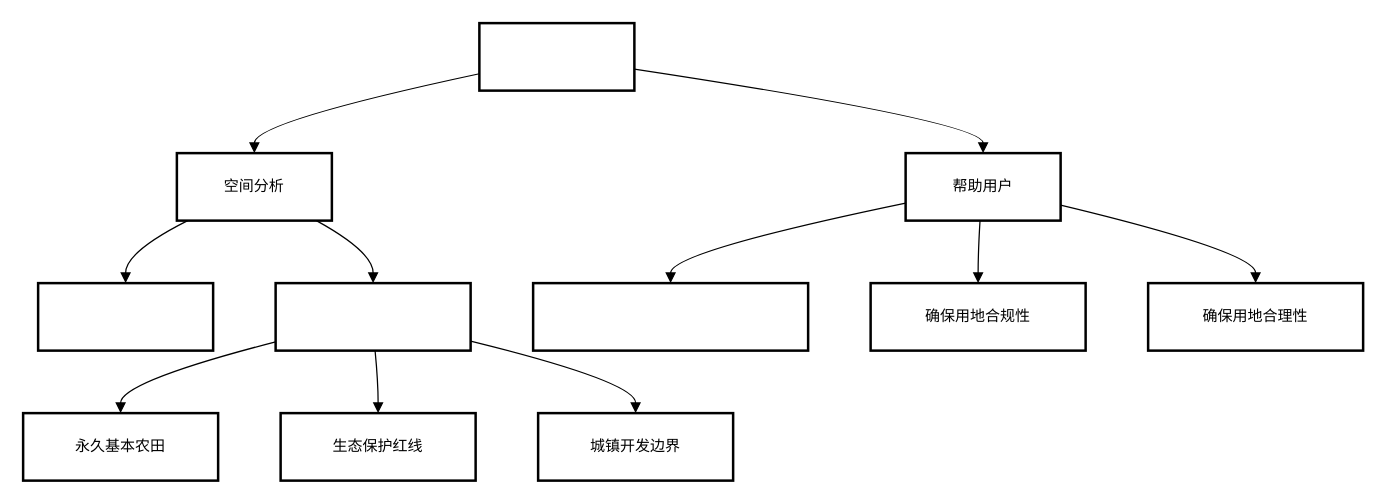
Image size: 1385x503. Some labels were removed from this diagram. The centre of each missing label's shape, as x and y in pixels:
"底线检测" goes at point 556,56.
"快速识别潜在空间冲突" goes at point 670,316.
"拟用地范围" goes at point 125,316.
"空间冲突检查" goes at point 372,316.
